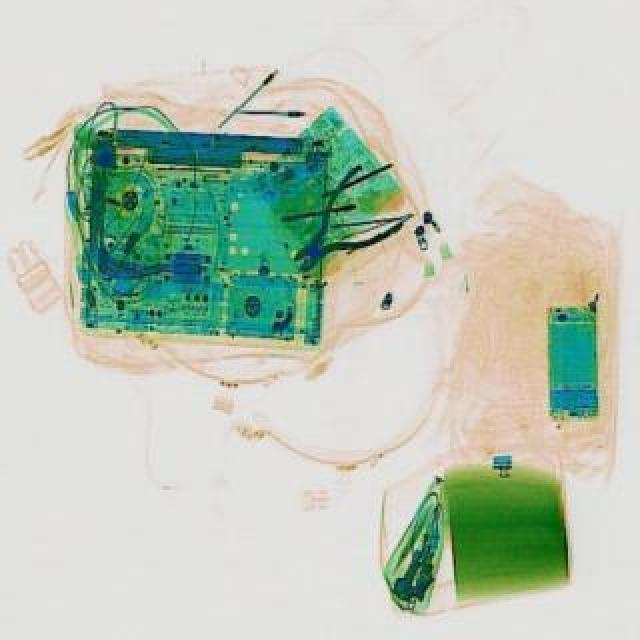wrench: (268, 160, 416, 292)
